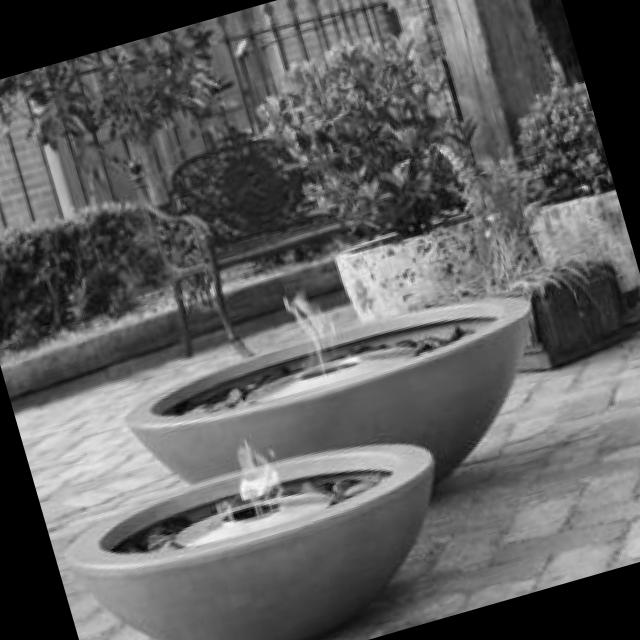fire: (193, 434, 291, 528), (282, 286, 352, 376)
